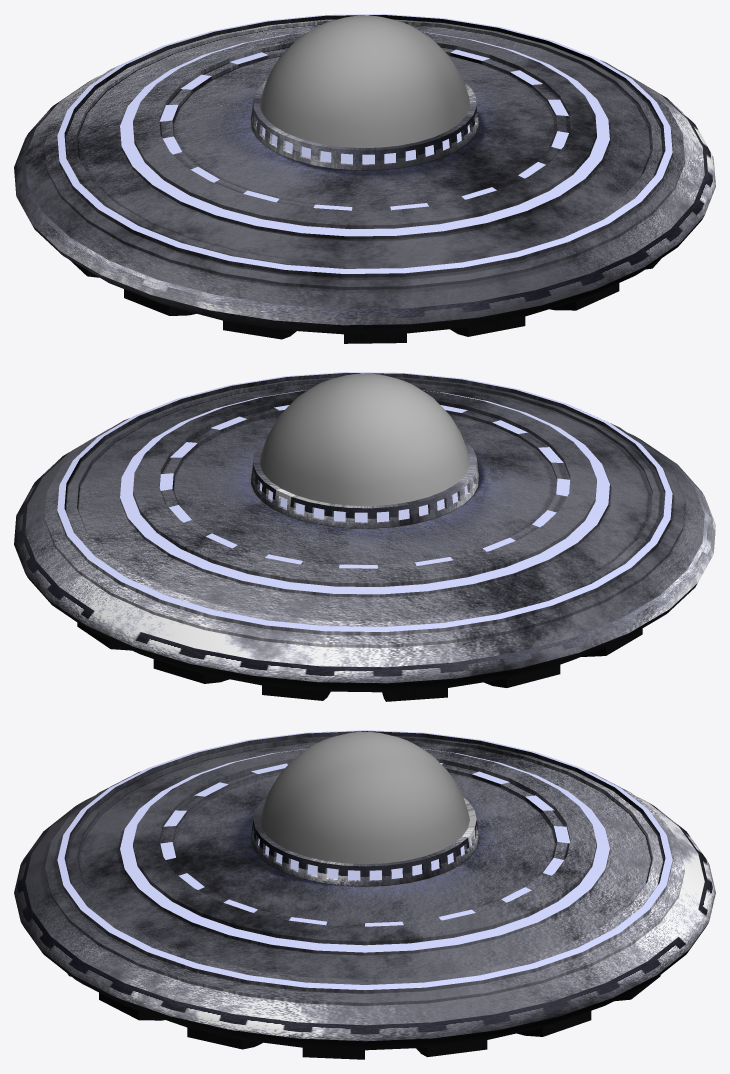
Rendered from ufo.glb.
3 views of the same model, one above another, from view 1: azimuth 30°, elevation 25°; view 2: azimuth 150°, elevation 25°; view 3: azimuth 270°, elevation 25° (orthographic).
Parts seen in each view (by area): view 1: Sphere; view 2: Sphere; view 3: Sphere.
Part boxes in pixels (box(x1,y1,x2,y2)): Sphere: box(14, 14, 715, 343); Sphere: box(14, 372, 715, 701); Sphere: box(14, 730, 715, 1059).
Size of the model in its own units: 6.56 by 2.47 by 6.56.
3 materials, 3 textured.
